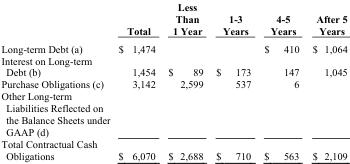table: (0, 0, 346, 161)
table column: (0, 0, 110, 161), (110, 0, 161, 161), (256, 0, 305, 161), (208, 0, 256, 161), (161, 0, 208, 161), (305, 0, 346, 161)
table column header: (0, 0, 346, 39)
table projected row header: (0, 89, 346, 137)
table row: (0, 89, 346, 137), (0, 0, 346, 39), (0, 137, 346, 161), (0, 54, 346, 77), (0, 39, 346, 54), (0, 77, 346, 89)
